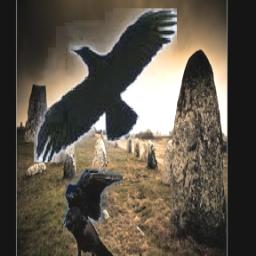Crow: (35, 8, 178, 162), (64, 169, 124, 256)
